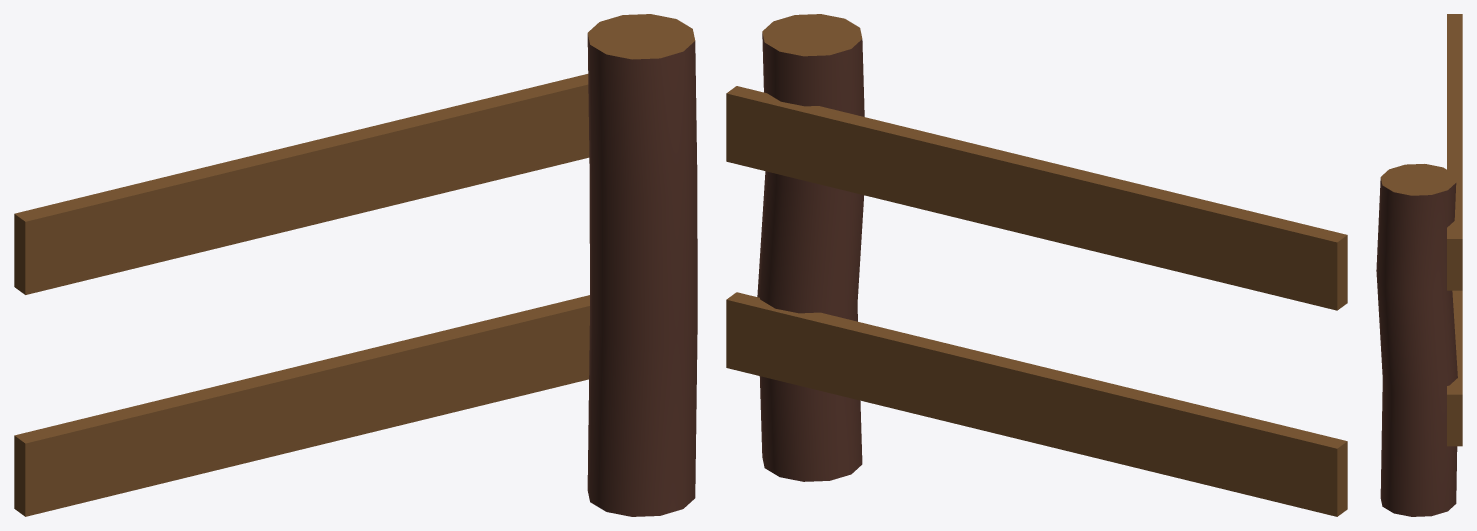
File: WoodSemiRoundFence_Half.fbx
3 views of the same model, side by side, from view 1: azimuth 30°, elevation 25°; view 2: azimuth 150°, elevation 25°; view 3: azimuth 270°, elevation 25° (orthographic). The views are drawn at different scales.
Parts seen in each view (by area): view 1: WoodSemiRoundFence_Half; view 2: WoodSemiRoundFence_Half; view 3: WoodSemiRoundFence_Half.
Part boxes in pixels (<box>): WoodSemiRoundFence_Half: <box>14,14,697,516</box>; WoodSemiRoundFence_Half: <box>726,14,1347,516</box>; WoodSemiRoundFence_Half: <box>1376,14,1462,516</box>.
Size of the model in its own units: 261 by 174 by 42.25.
